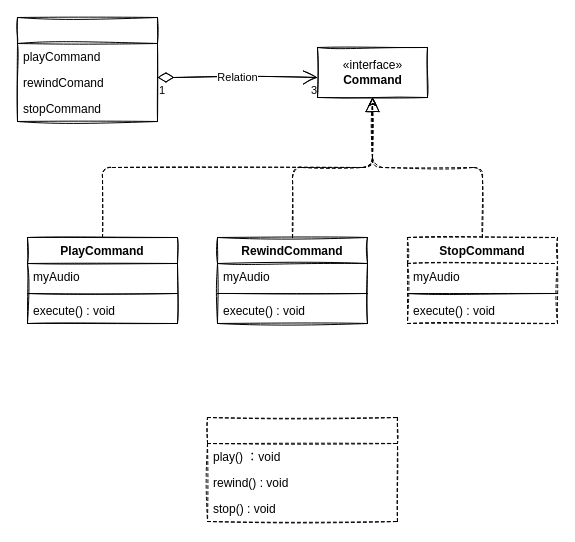
Some shapes in this 575 by 542 pixel diagram are drawn without their labels. Here are the shapes that lost their labels. From the top down, the box of each, then its label:
(16, 16, 158, 122): Keypad
(206, 416, 398, 522): AuditPlayer
